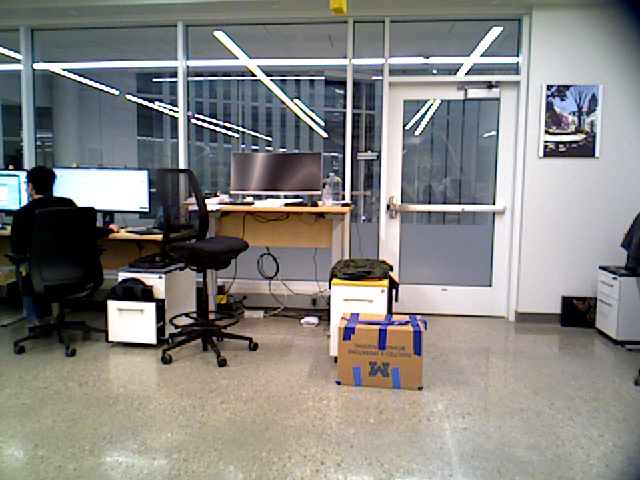painting3: (542, 84, 601, 156)
